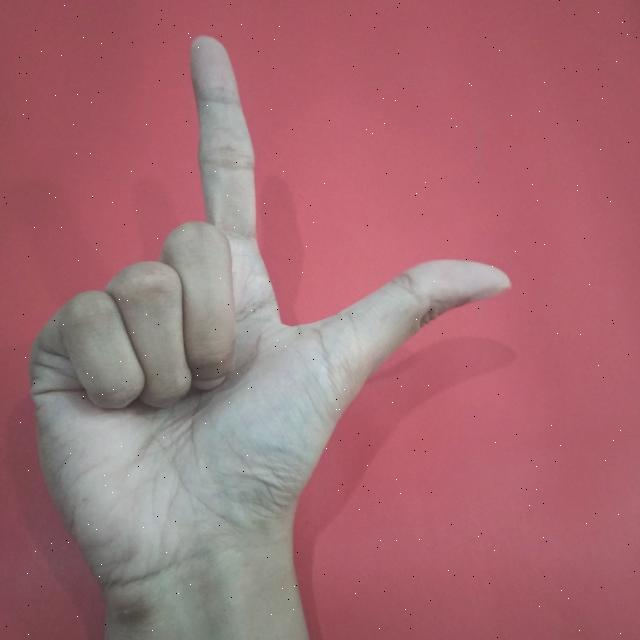L: (22, 29, 520, 640)
